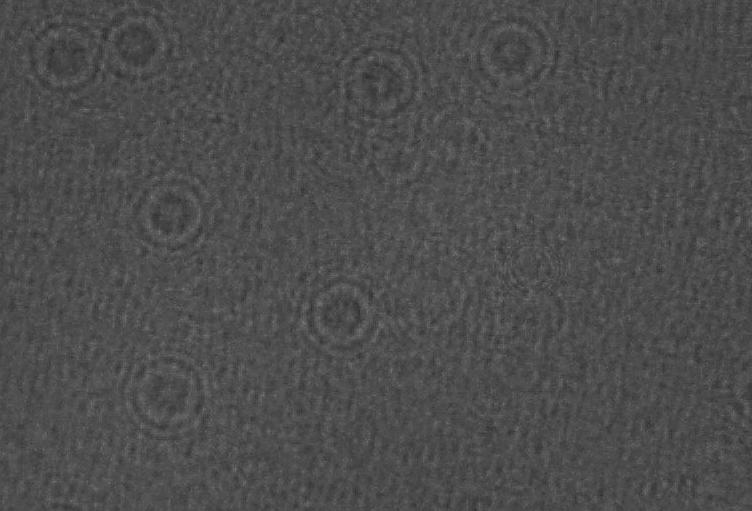bead: (115, 161, 230, 267), (110, 343, 225, 445), (284, 265, 399, 367), (317, 26, 429, 122), (93, 0, 197, 100), (458, 5, 564, 94), (15, 11, 102, 98), (722, 347, 752, 430)
